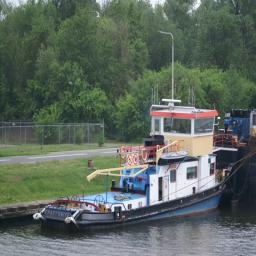tugboat: (32, 84, 244, 240)
